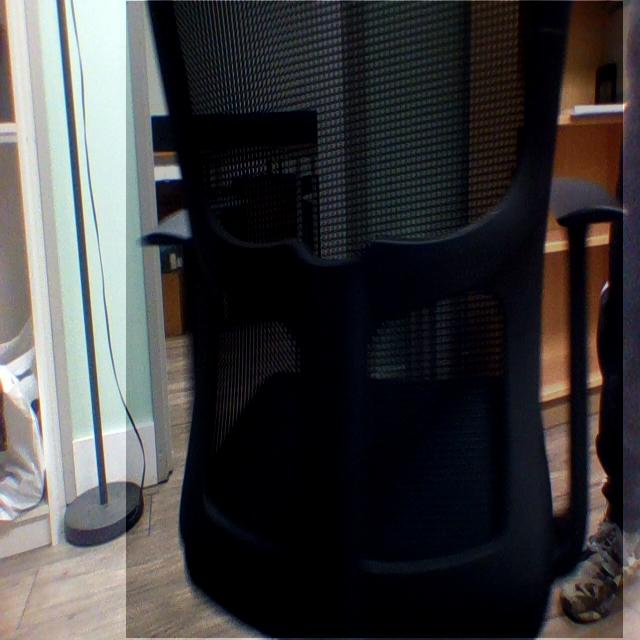black-chair: (126, 1, 624, 639)
